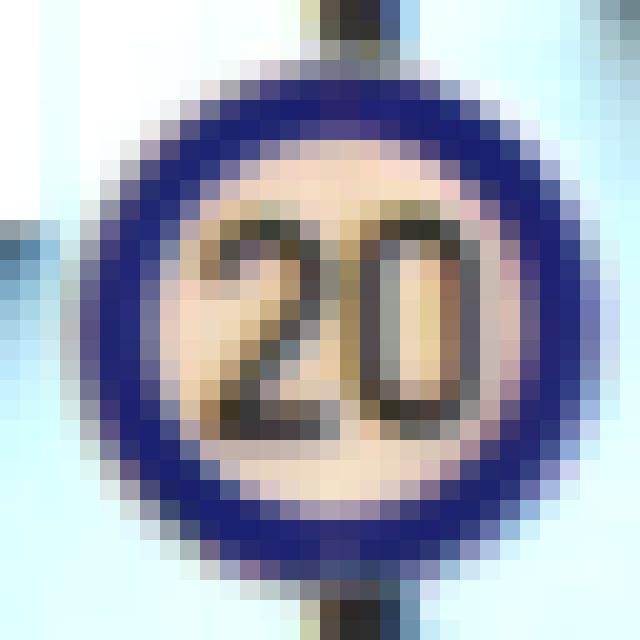SPEED LIMIT 20: (62, 61, 602, 574)
